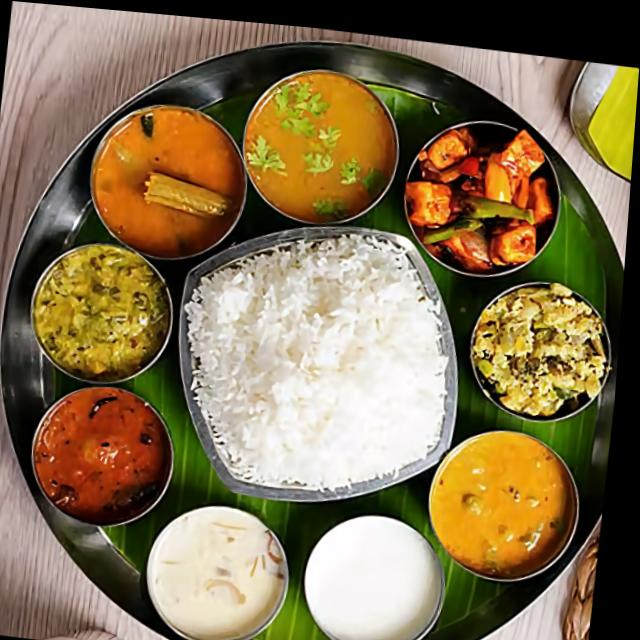CURD: (147, 521, 285, 638)
KURMA: (428, 436, 565, 575)
RASAM: (250, 82, 397, 224)
RICE: (193, 243, 438, 491)
SAMBAR: (96, 113, 243, 259), (37, 388, 164, 528)
SWEET: (304, 522, 437, 640)
VEGGIES: (412, 127, 551, 277), (31, 244, 169, 379), (471, 285, 606, 416)
